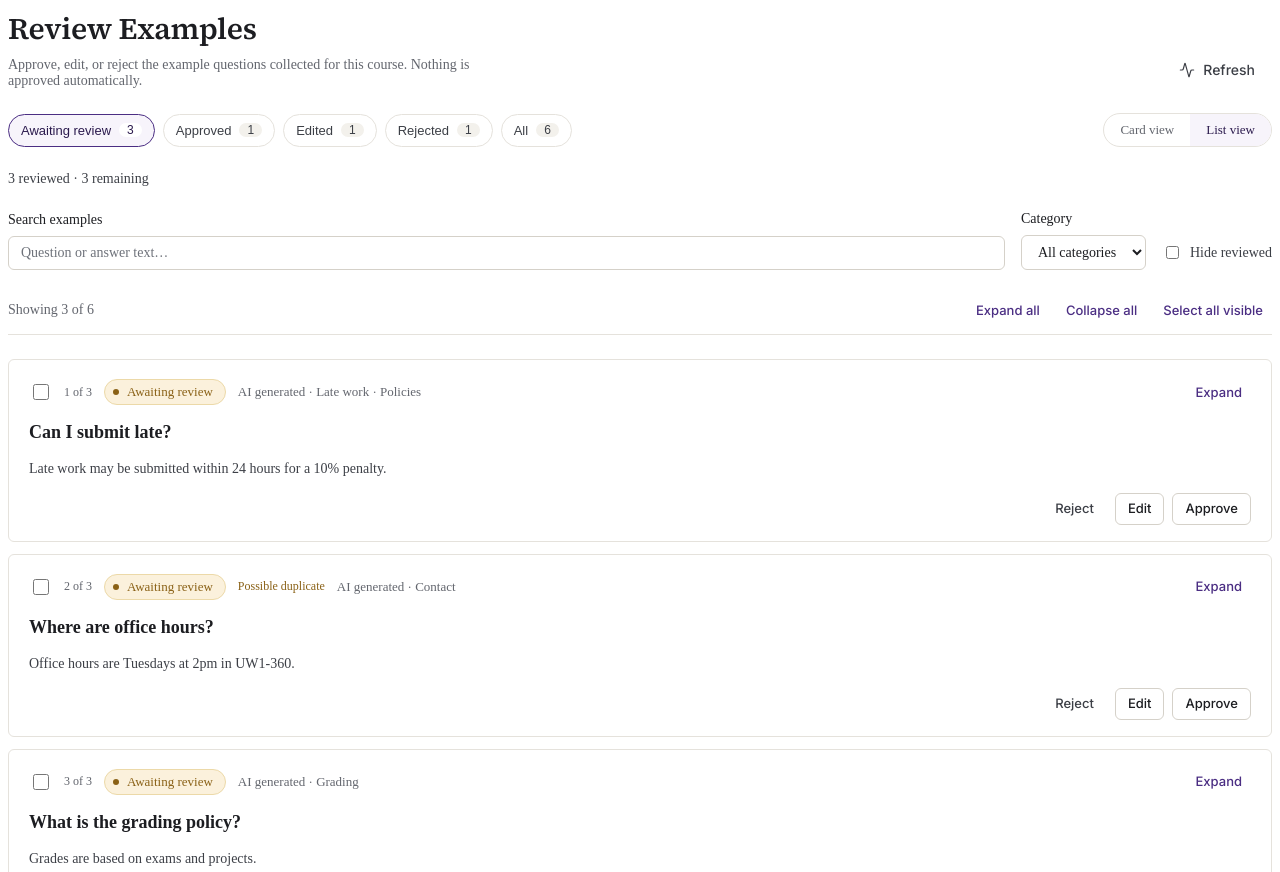
Test case: ReviewExamplesPage list view › expand and collapse › collapses the supporting evidence, never the answer itself
The width and height of the screenshot is (1280, 872).
Check: the text "Can I submit late?" is shown, box [29, 422, 172, 442]
Check: the text "Late work may be submitted within 24 hours for a 10% penalty." is shown, box [29, 461, 387, 476]
Click the button with aria-label "Expand example 1".
click(1219, 392)  # box [1186, 376, 1251, 408]
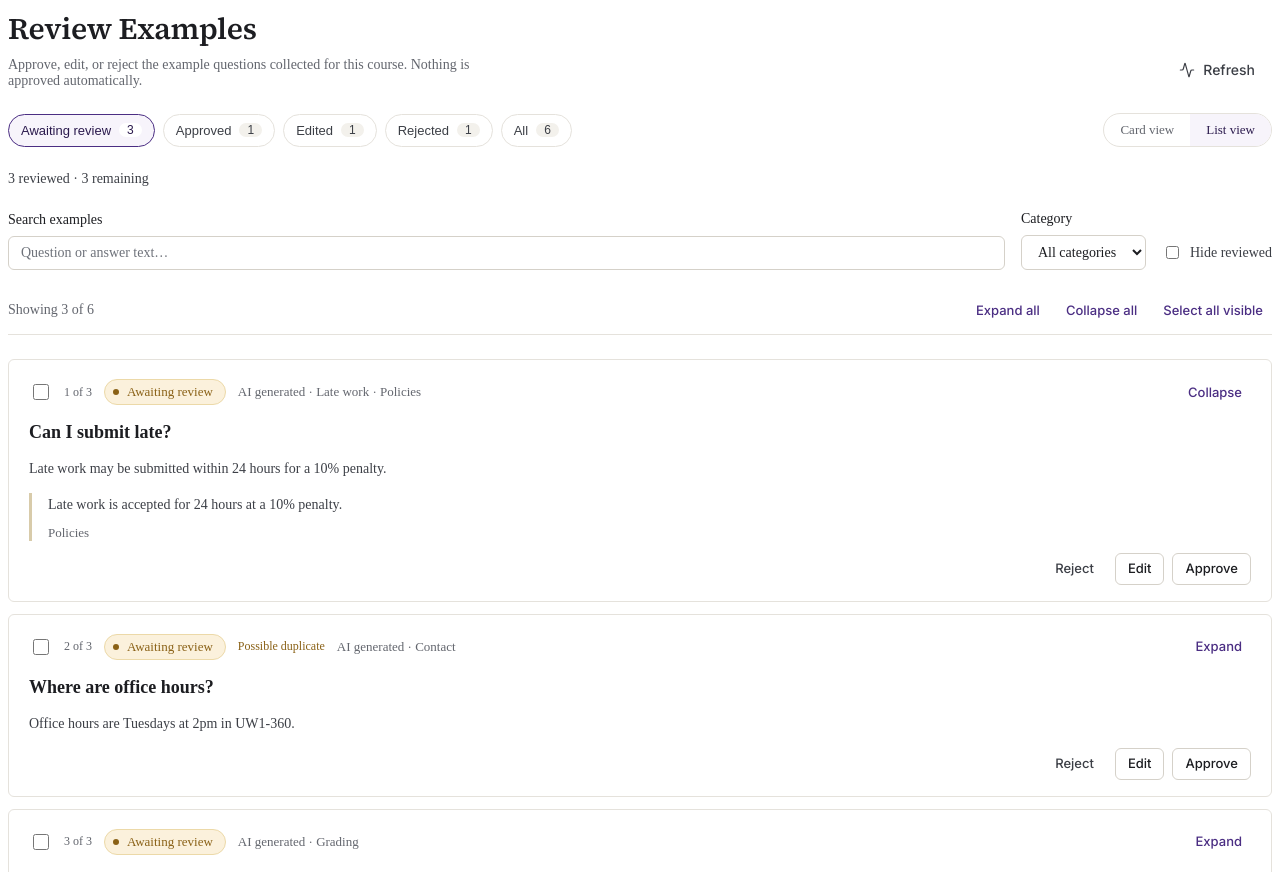
Check: the text "Late work is accepted for 24 hours at a 10% penalty." is shown, box [48, 497, 342, 512]
